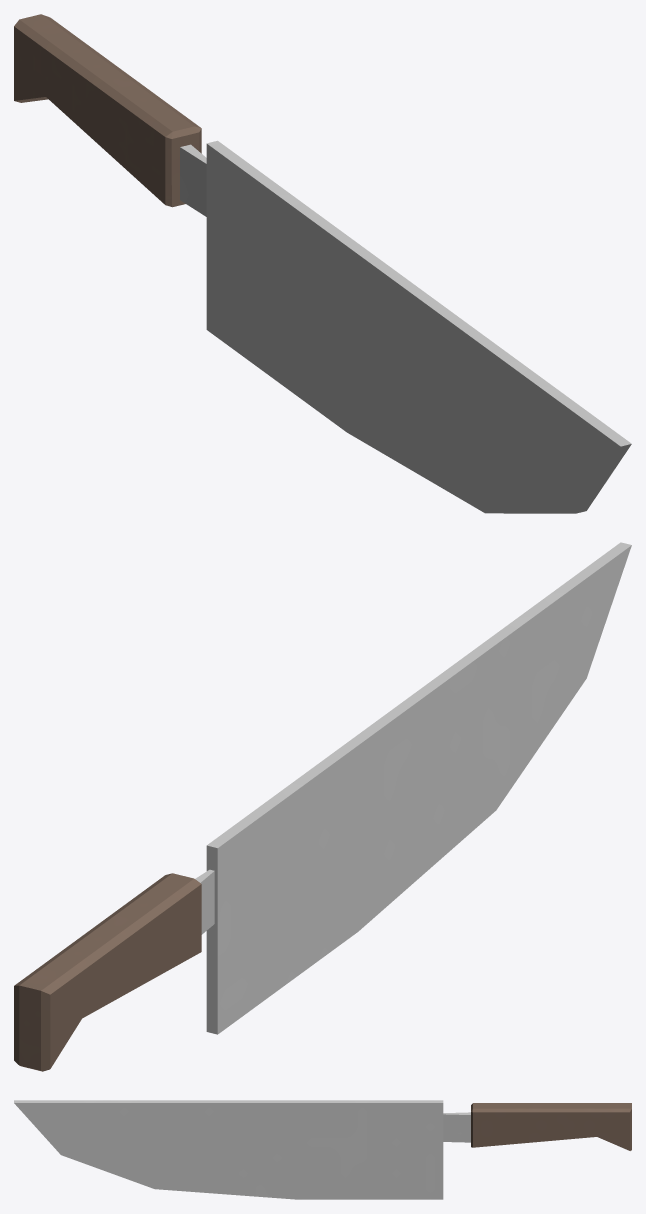
The model's file is Kitchen_Knife_01.fbx.
The picture shows the model from 3 angles, top to bottom: view 1: azimuth 30°, elevation 25°; view 2: azimuth 150°, elevation 25°; view 3: azimuth 270°, elevation 25°; orthographic projection. The views are drawn at different scales.
Visible parts, largest first — view 1: Kitchen_Knife_01; view 2: Kitchen_Knife_01; view 3: Kitchen_Knife_01.
Part boxes in pixels (x1,y1,x2,y2): Kitchen_Knife_01: (14, 14, 631, 513); Kitchen_Knife_01: (14, 542, 631, 1071); Kitchen_Knife_01: (14, 1100, 631, 1199).
Size of the model in its own units: 0.0121 by 0.0596 by 0.3453.
